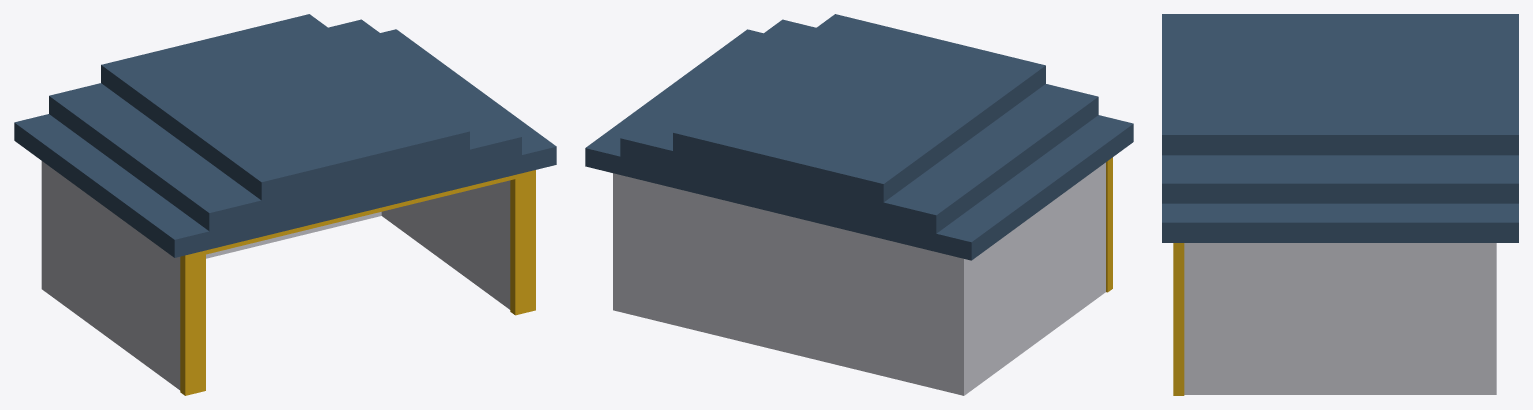
Rendered from hangar.obj.
3 renders of one model, left to right at view 1: azimuth 30°, elevation 25°; view 2: azimuth 150°, elevation 25°; view 3: azimuth 270°, elevation 25°, orthographic. The views are drawn at different scales.
Size of the model in its own units: 22 by 11 by 16.
